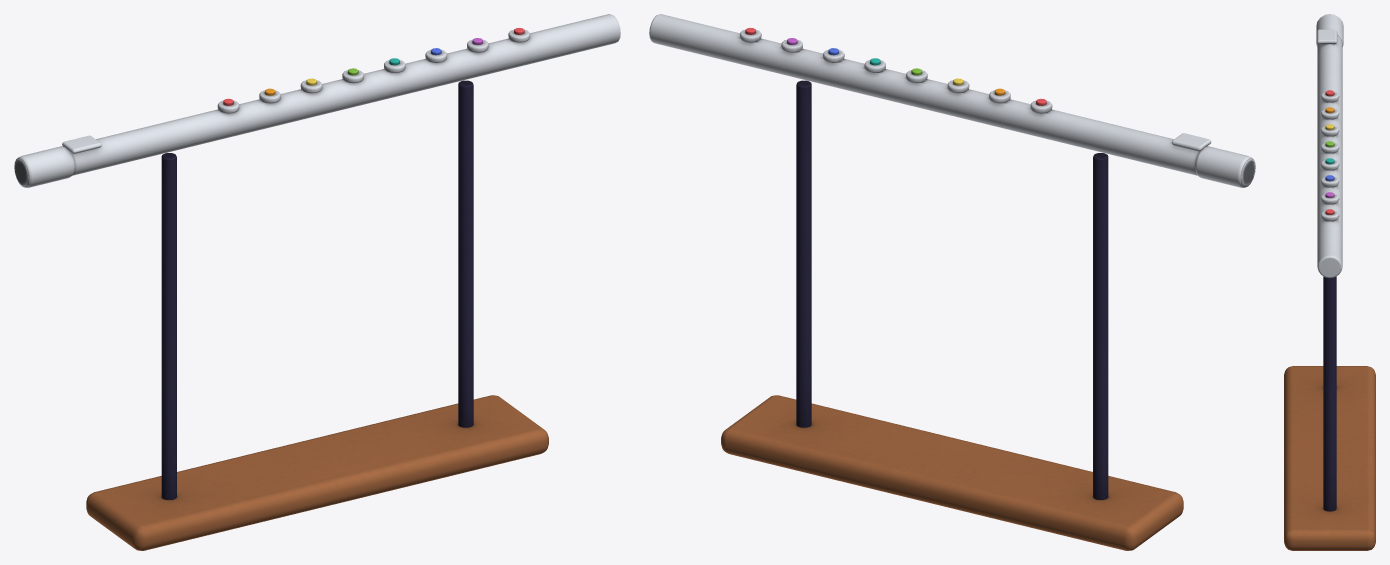
The model's file is Flute.fbx.
3 views of the same model, side by side, from view 1: azimuth 30°, elevation 25°; view 2: azimuth 150°, elevation 25°; view 3: azimuth 270°, elevation 25° (orthographic). The views are drawn at different scales.
Parts seen in each view (by area): view 1: Flute_Body; view 2: Flute_Body; view 3: Flute_Body, Key_1_Mesh, Key_2_Mesh, Key_0_Mesh, Key_3_Mesh, Key_4_Mesh, Key_5_Mesh, Key_6_Mesh, Key_7_Mesh.
Boxes of the visible parts, box(x1,y1,x2,y2) form: Flute_Body: box(14, 14, 620, 550); Flute_Body: box(649, 14, 1255, 550); Flute_Body: box(1284, 14, 1375, 550); Key_1_Mesh: box(1320, 107, 1339, 119); Key_2_Mesh: box(1320, 124, 1339, 136); Key_0_Mesh: box(1320, 90, 1339, 102); Key_3_Mesh: box(1320, 141, 1339, 153); Key_4_Mesh: box(1320, 158, 1339, 170); Key_5_Mesh: box(1320, 175, 1339, 187); Key_6_Mesh: box(1320, 192, 1339, 204); Key_7_Mesh: box(1320, 209, 1339, 221).
Size of the model in its own units: 1 by 0.655 by 0.16.
